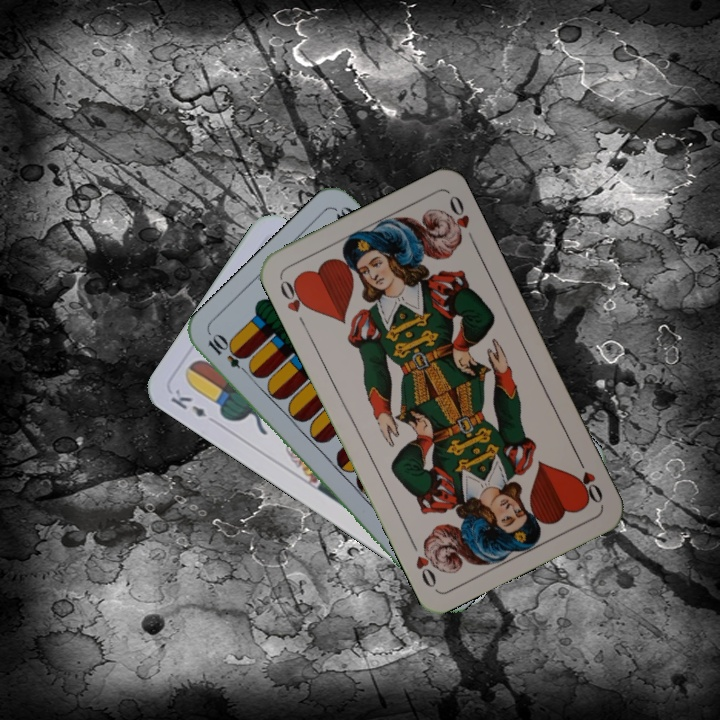E10: (204, 331, 254, 379)
EK: (166, 385, 209, 420)
HO: (275, 274, 312, 330), (572, 451, 606, 506)
